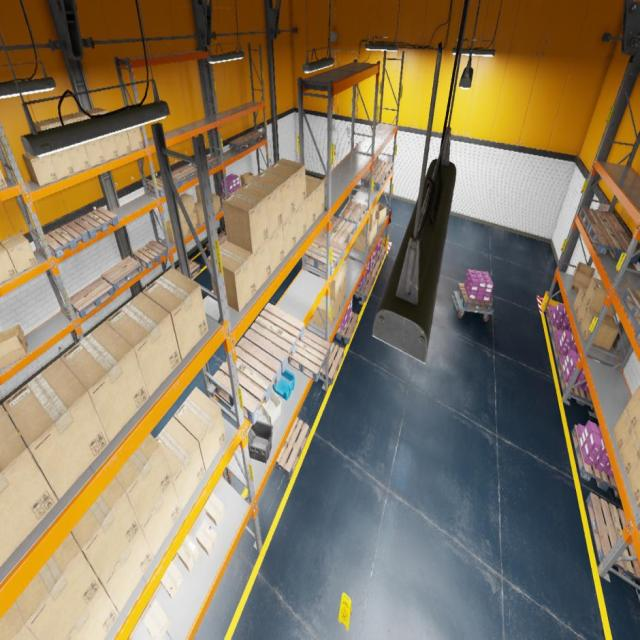box: (3, 358, 109, 499), (60, 322, 148, 442), (0, 405, 58, 567), (15, 532, 101, 639), (106, 292, 181, 396), (72, 478, 140, 584), (142, 268, 208, 359), (115, 433, 172, 526), (66, 542, 120, 639), (155, 417, 205, 510), (174, 387, 226, 470), (103, 528, 154, 612), (208, 240, 257, 312), (222, 188, 269, 254), (141, 481, 181, 556), (240, 177, 282, 238), (256, 166, 295, 222), (270, 158, 306, 210), (580, 309, 618, 350), (0, 233, 37, 274), (0, 602, 39, 640), (584, 277, 616, 317), (0, 324, 27, 369), (22, 154, 58, 186), (576, 297, 614, 327), (143, 599, 170, 639), (619, 430, 640, 477), (253, 238, 271, 290), (177, 534, 200, 572), (160, 561, 183, 599), (195, 520, 218, 557), (305, 175, 324, 219), (613, 409, 632, 452), (50, 148, 75, 179), (313, 296, 335, 330), (269, 224, 284, 273), (204, 493, 226, 526), (571, 262, 595, 292), (0, 244, 17, 284), (319, 270, 341, 300), (68, 144, 91, 172), (625, 386, 639, 430), (283, 211, 296, 257), (84, 139, 105, 167), (628, 459, 639, 506), (100, 134, 118, 161), (295, 200, 306, 243), (126, 126, 144, 151), (114, 130, 131, 156), (354, 228, 371, 253), (325, 291, 340, 319), (306, 186, 315, 231), (573, 287, 587, 315), (34, 118, 60, 132), (180, 194, 195, 216), (374, 203, 387, 227), (363, 208, 376, 231), (176, 199, 188, 222), (50, 115, 77, 125), (165, 220, 175, 244), (339, 261, 347, 290), (363, 226, 374, 247), (195, 202, 205, 225), (68, 112, 92, 121), (633, 420, 640, 450), (240, 172, 254, 186), (189, 212, 198, 232), (212, 193, 220, 214), (340, 282, 346, 309), (181, 219, 190, 237), (0, 167, 7, 188), (85, 108, 108, 114), (195, 184, 202, 203), (374, 218, 377, 240)
pallets: (212, 337, 282, 424), (586, 493, 640, 584), (244, 303, 304, 372), (571, 425, 620, 500), (288, 329, 330, 382), (275, 417, 309, 479), (588, 224, 640, 263), (557, 359, 594, 410), (70, 278, 115, 318), (44, 221, 90, 259), (306, 235, 346, 276), (101, 256, 143, 291), (579, 206, 626, 237), (74, 207, 118, 239), (320, 216, 356, 248), (133, 240, 168, 269), (320, 342, 344, 384), (458, 283, 492, 311), (339, 200, 366, 230), (147, 175, 180, 198), (336, 311, 358, 345), (546, 308, 571, 337), (622, 288, 640, 327), (361, 168, 387, 191), (171, 164, 197, 186), (369, 159, 394, 179), (551, 332, 566, 364), (176, 259, 200, 278), (355, 276, 373, 301), (191, 156, 218, 170), (229, 136, 253, 151), (206, 233, 227, 250), (242, 131, 265, 144), (369, 260, 381, 282), (375, 246, 386, 267), (634, 324, 640, 348), (219, 193, 226, 200), (224, 228, 226, 235)
